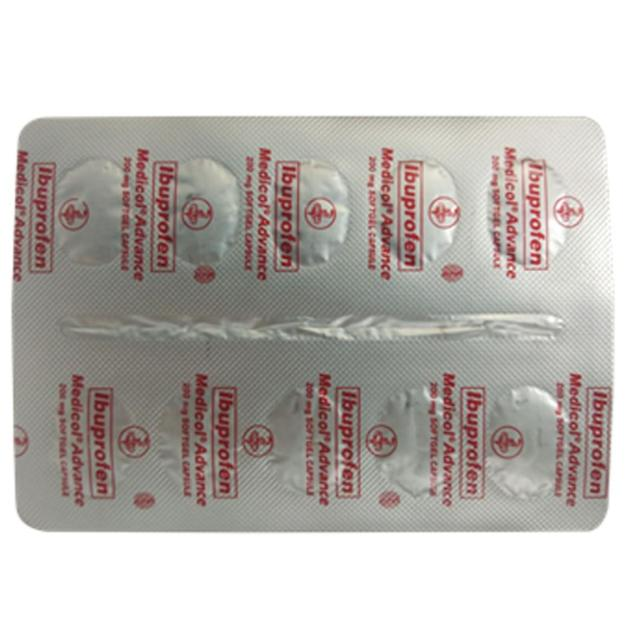blister: (6, 106, 620, 541)
